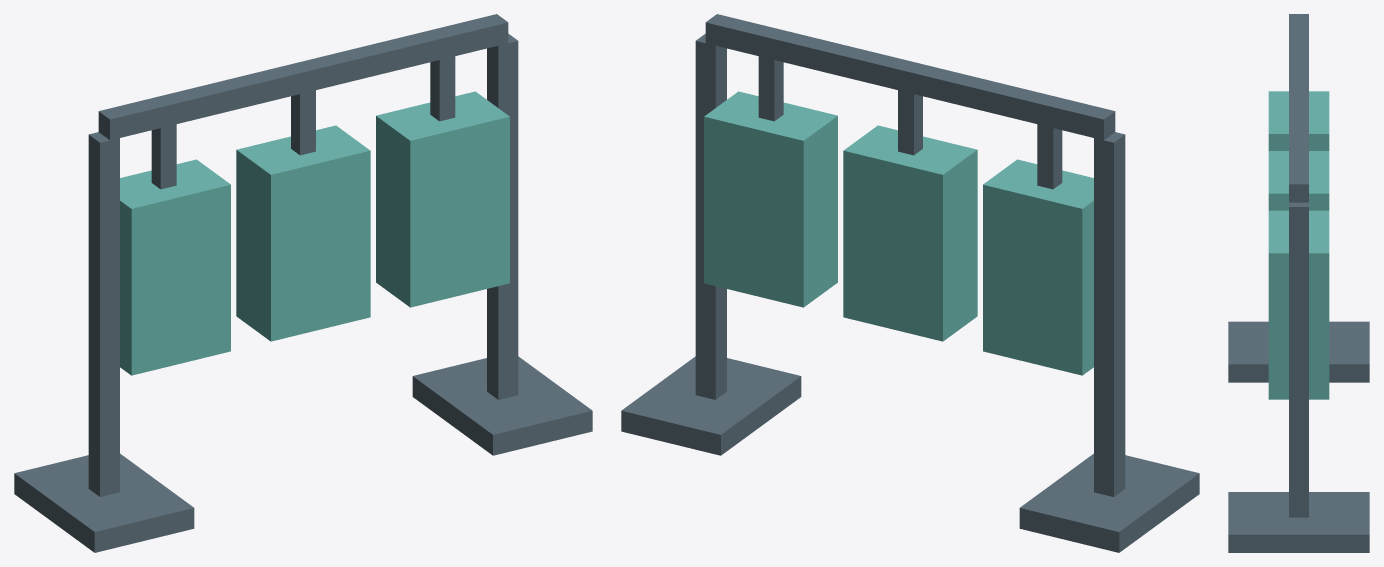
Rendered from voxel-city-districts-clothing-rail-927e60fd__24879.glb.
3 renders of one model, left to right at view 1: azimuth 30°, elevation 25°; view 2: azimuth 150°, elevation 25°; view 3: azimuth 270°, elevation 25°, orthographic. The views are drawn at different scales.
Visible parts, largest first — view 1: clothing-rail-accent, clothing-rail-dark; view 2: clothing-rail-accent, clothing-rail-dark; view 3: clothing-rail-dark, clothing-rail-accent.
Boxes of the visible parts, left/top/right/bottom form: clothing-rail-accent: left=120, top=91, right=509, bottom=375; clothing-rail-dark: left=14, top=14, right=592, bottom=552; clothing-rail-accent: left=704, top=91, right=1093, bottom=375; clothing-rail-dark: left=621, top=14, right=1199, bottom=552; clothing-rail-dark: left=1228, top=14, right=1369, bottom=552; clothing-rail-accent: left=1268, top=91, right=1329, bottom=399.
Size of the model in its own units: 2.5 by 1.9 by 0.6999.
